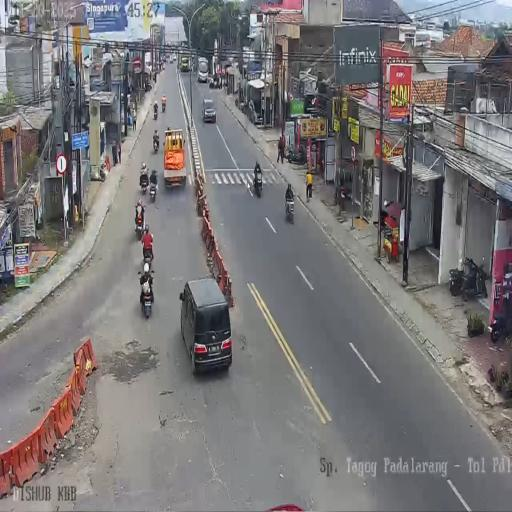car: (180, 279, 233, 374), (202, 98, 217, 122), (262, 504, 306, 511), (162, 54, 167, 64), (173, 54, 177, 62), (169, 55, 173, 63)
motorcycle: (450, 257, 487, 302), (490, 296, 512, 343), (138, 270, 154, 318), (287, 146, 306, 165), (284, 189, 294, 224), (142, 238, 154, 267), (253, 168, 263, 198), (134, 210, 144, 240), (149, 176, 158, 202), (141, 172, 148, 194), (238, 98, 246, 114), (153, 133, 159, 151), (208, 75, 214, 87), (153, 106, 158, 120), (161, 99, 166, 112), (235, 96, 238, 108)
truck: (164, 127, 186, 187), (198, 57, 209, 83), (180, 54, 190, 72)
